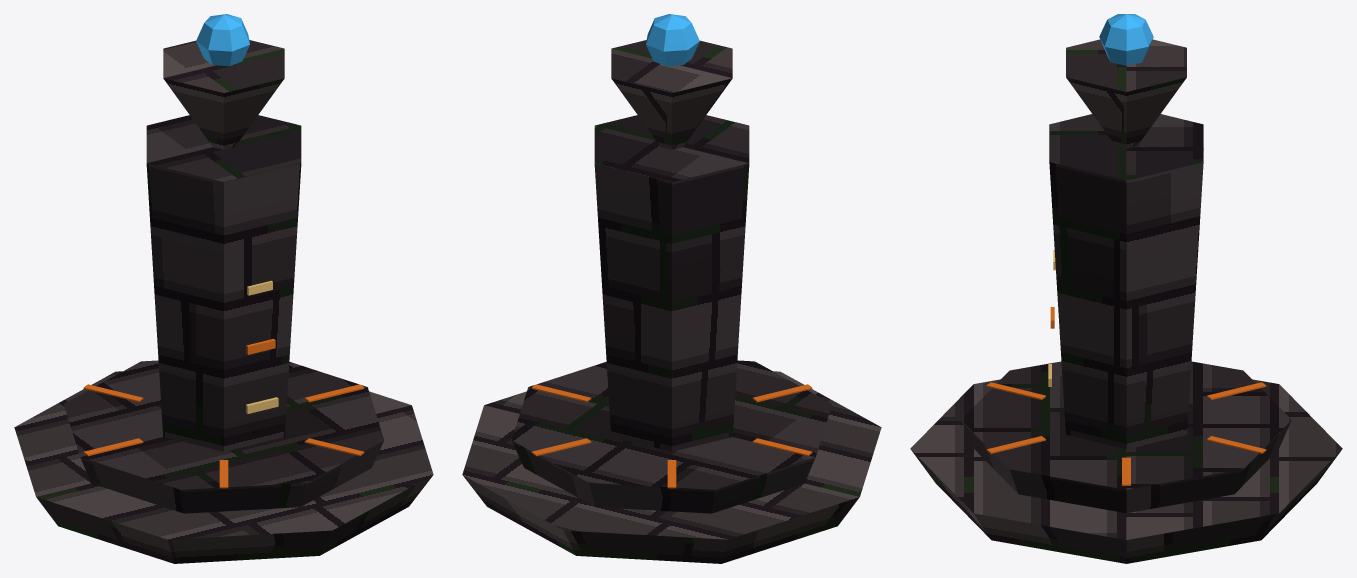
Rendered from muspel_waystone.glb.
The picture shows the model from 3 angles, left to right: view 1: azimuth 30°, elevation 25°; view 2: azimuth 150°, elevation 25°; view 3: azimuth 270°, elevation 25°; orthographic projection.
Visible parts, largest first — view 1: muspel_waystone; view 2: muspel_waystone; view 3: muspel_waystone.
Part boxes in pixels (x1,y1,x2,y2): muspel_waystone: (14, 14, 433, 563); muspel_waystone: (462, 14, 881, 563); muspel_waystone: (910, 14, 1342, 563).
Bounding box in the file's own units: 3.4 × 4.07 × 3.4.
Materials: 2 (1 with a texture image).
